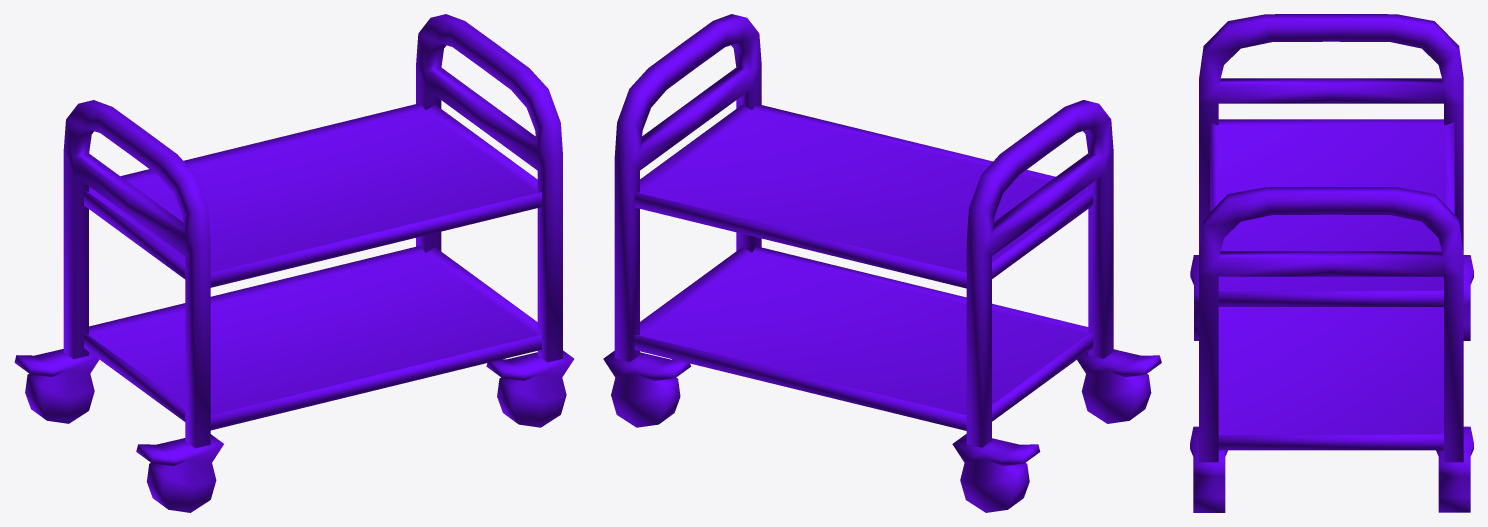
Rendered from hospital_staff_steelTrolley_1_meshCollider.fbx.
3 renders of one model, left to right at view 1: azimuth 30°, elevation 25°; view 2: azimuth 150°, elevation 25°; view 3: azimuth 270°, elevation 25°, orthographic.
Parts seen in each view (by area): view 1: hospital_staff_steelTrolley_1_meshCollider, hospital_staff_steelTrolley_1_wheel_1_meshCollider, hospital_staff_steelTrolley_1_wheel_3_meshCollider, hospital_staff_steelTrolley_1_wheel_2_meshCollider; view 2: hospital_staff_steelTrolley_1_meshCollider, hospital_staff_steelTrolley_1_wheel_2_meshCollider, hospital_staff_steelTrolley_1_wheel_4_meshCollider, hospital_staff_steelTrolley_1_wheel_1_meshCollider; view 3: hospital_staff_steelTrolley_1_meshCollider, hospital_staff_steelTrolley_1_wheel_4_meshCollider, hospital_staff_steelTrolley_1_wheel_3_meshCollider, hospital_staff_steelTrolley_1_wheel_2_meshCollider, hospital_staff_steelTrolley_1_wheel_1_meshCollider.
Boxes of the visible parts, box(x1,y1,x2,y2) form: hospital_staff_steelTrolley_1_meshCollider: box(63, 14, 562, 448); hospital_staff_steelTrolley_1_wheel_1_meshCollider: box(136, 434, 223, 512); hospital_staff_steelTrolley_1_wheel_3_meshCollider: box(486, 350, 573, 427); hospital_staff_steelTrolley_1_wheel_2_meshCollider: box(14, 349, 99, 423); hospital_staff_steelTrolley_1_meshCollider: box(614, 14, 1113, 447); hospital_staff_steelTrolley_1_wheel_2_meshCollider: box(952, 434, 1040, 512); hospital_staff_steelTrolley_1_wheel_4_meshCollider: box(603, 350, 690, 427); hospital_staff_steelTrolley_1_wheel_1_meshCollider: box(1077, 349, 1161, 423); hospital_staff_steelTrolley_1_meshCollider: box(1199, 14, 1463, 462); hospital_staff_steelTrolley_1_wheel_4_meshCollider: box(1436, 426, 1473, 512); hospital_staff_steelTrolley_1_wheel_3_meshCollider: box(1190, 426, 1227, 512); hospital_staff_steelTrolley_1_wheel_2_meshCollider: box(1463, 255, 1473, 340); hospital_staff_steelTrolley_1_wheel_1_meshCollider: box(1190, 255, 1198, 340).
Size of the model in its own units: 71.13 by 52.63 by 41.17.
